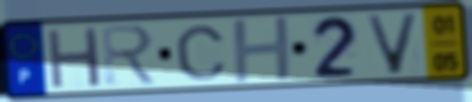2: (310, 13, 363, 83)
C: (173, 23, 230, 82)
H: (230, 14, 296, 86), (44, 25, 104, 92)
R: (98, 23, 161, 88)
V: (362, 11, 423, 77)
